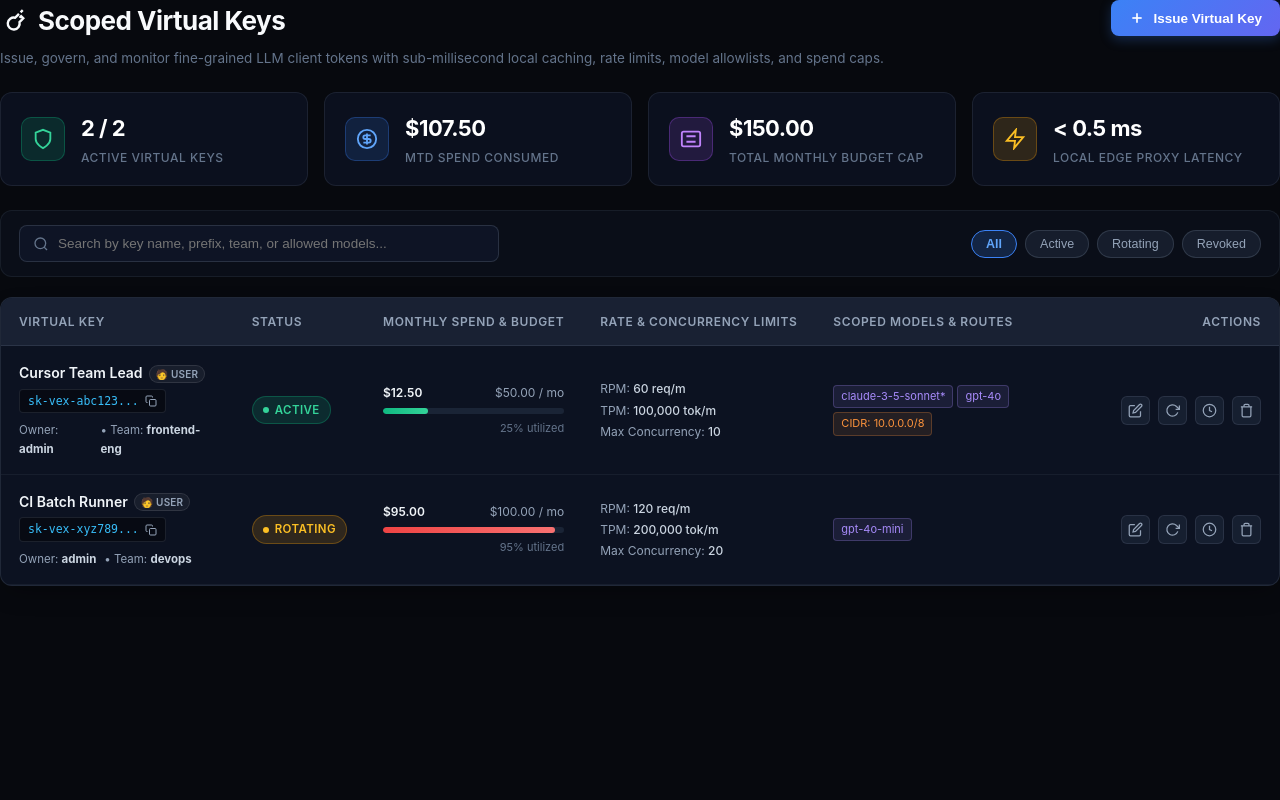
VirtualKeys View › opens create modal and generates a new scoped virtual key
Expected: the text "Cursor Team Lead" is shown, x1=19 y1=362 x2=143 y2=385
# Open modal
Click the button "Issue Virtual Key" at (1196, 18), box x1=1111 y1=0 x2=1279 y2=36
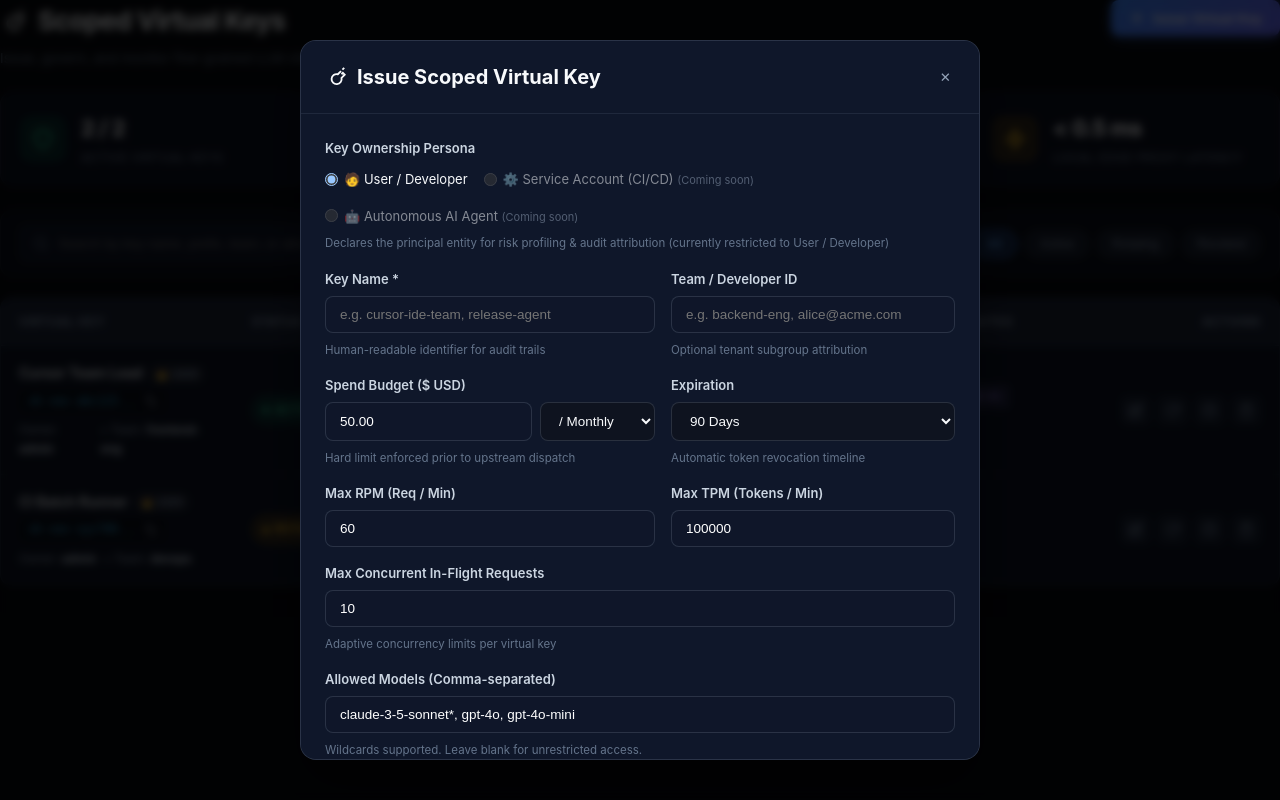
Now the heading "Issue Scoped Virtual Key" is shown, box x1=325 y1=61 x2=601 y2=93
# Fill form
Type "New Release Agent" into the field with placeholder "e.g. cursor-ide-team, release-agent" at (490, 314), box x1=325 y1=296 x2=655 y2=333
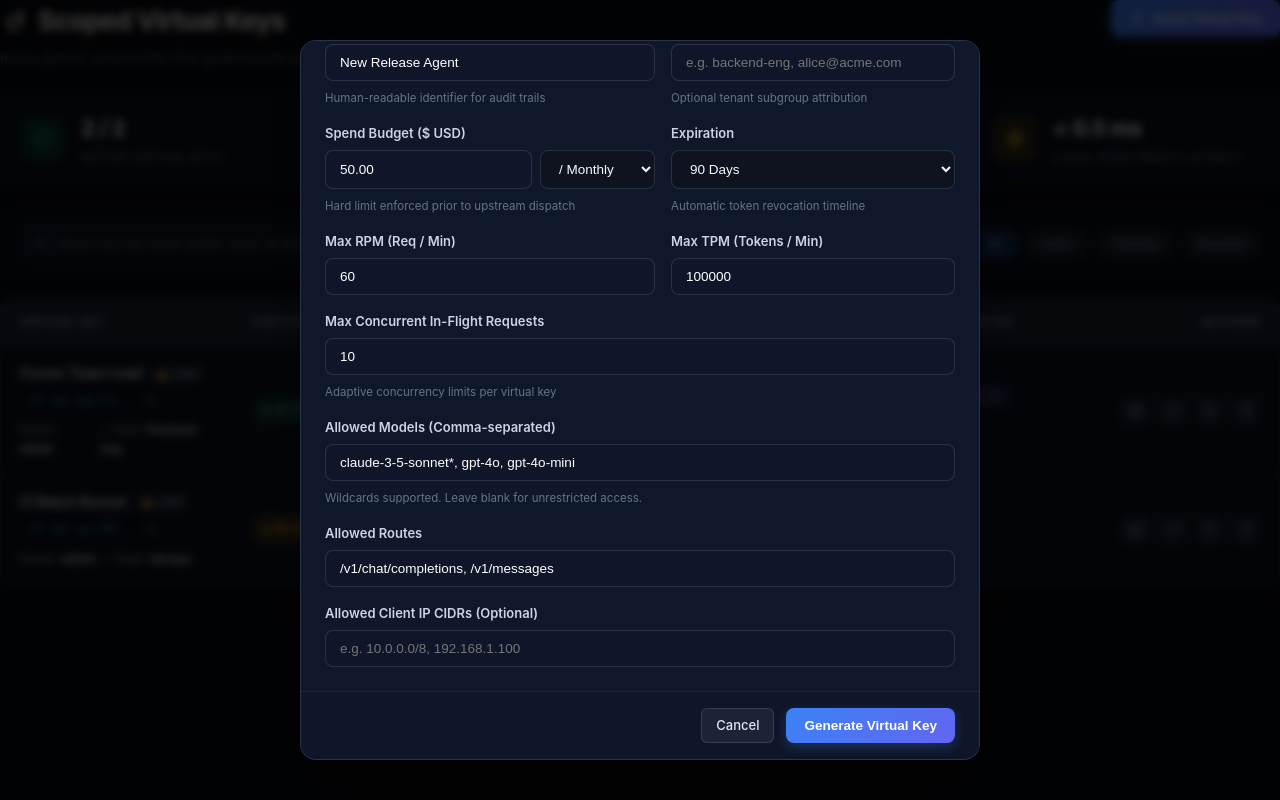
Click the button "Generate Virtual Key" at (871, 725), box x1=786 y1=708 x2=955 y2=743
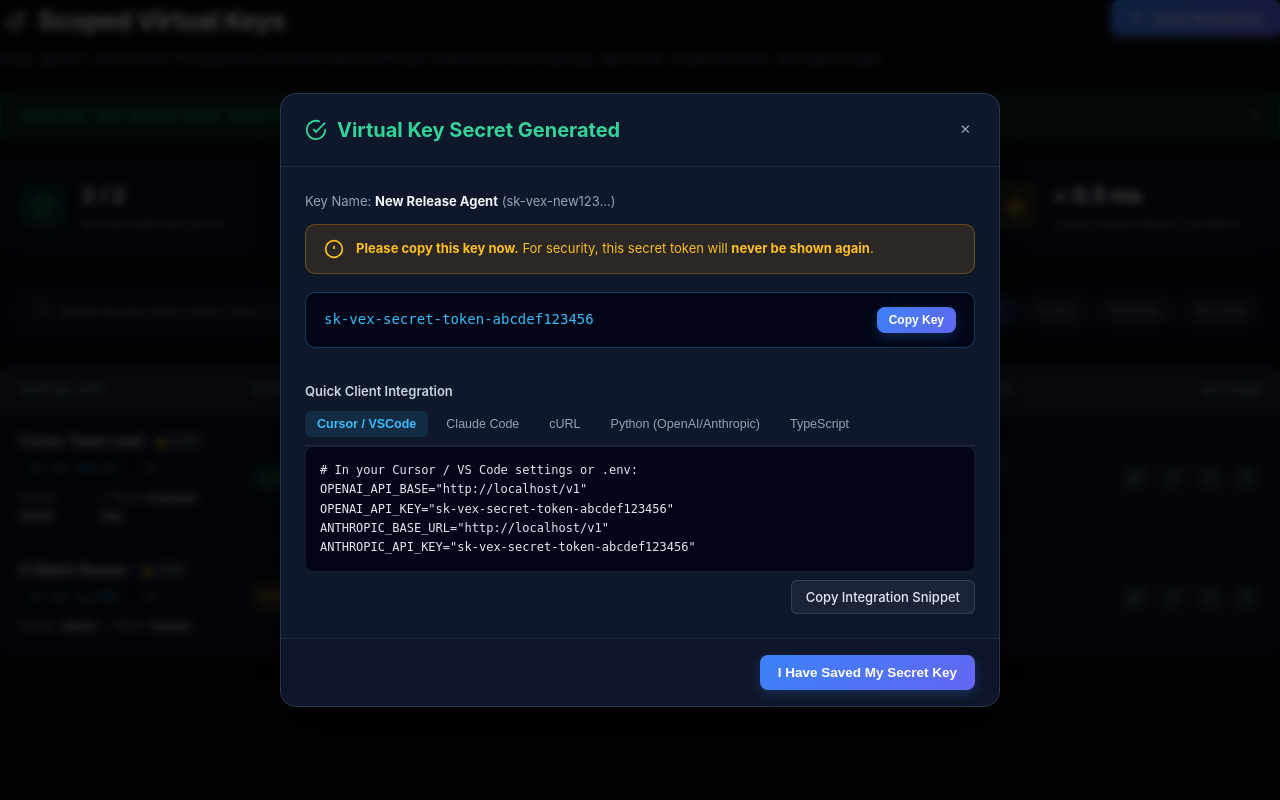
Now the heading "Virtual Key Secret Generated" is shown, box x1=305 y1=114 x2=620 y2=146
Now the text "sk-vex-secret-token-abcdef123456" is shown, box x1=324 y1=308 x2=594 y2=331
